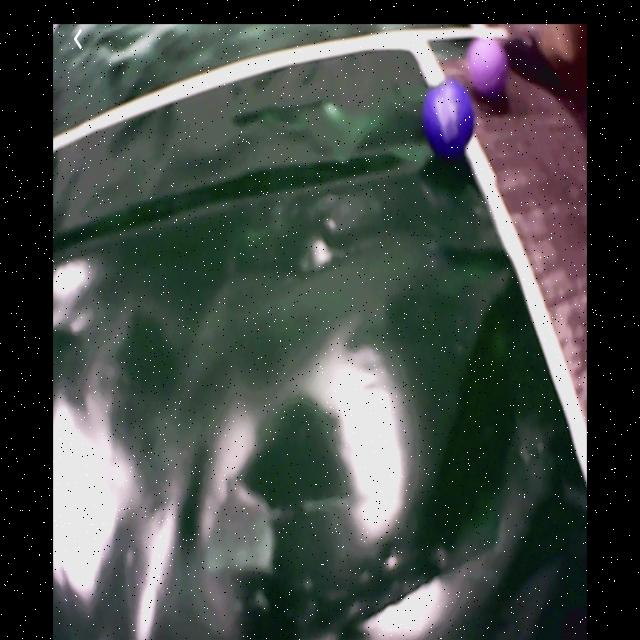ball: (425, 79, 474, 159), (467, 36, 506, 99)
